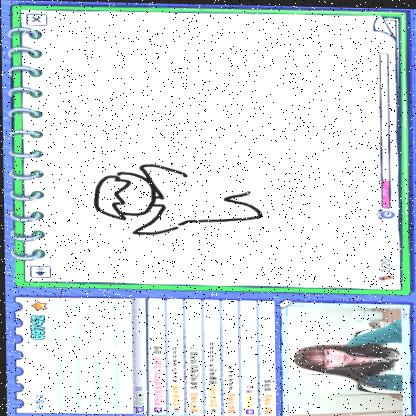streamer: (292, 315, 400, 389)
